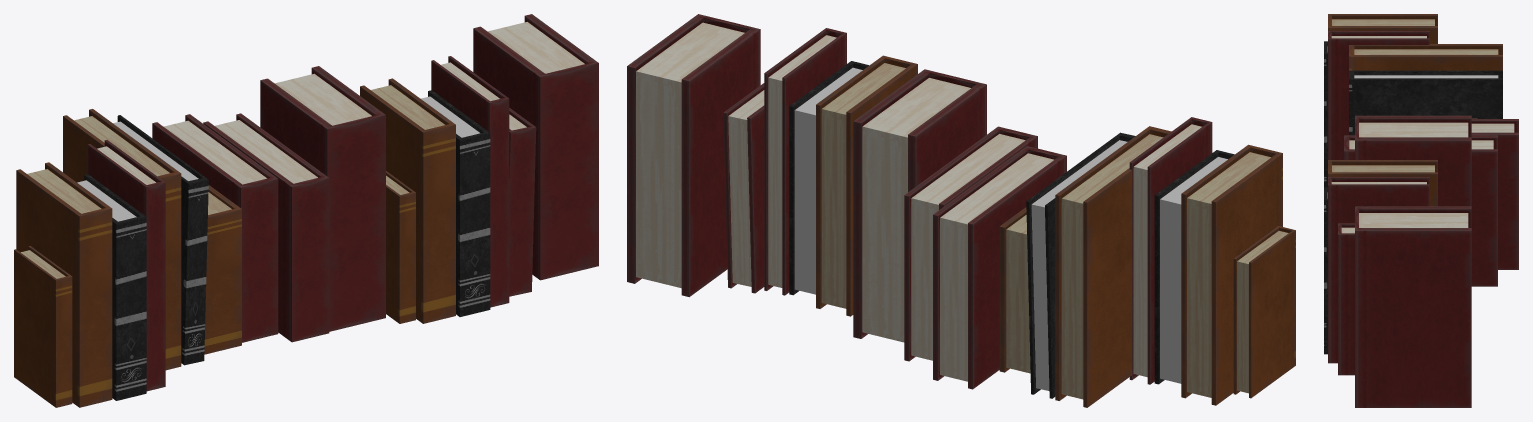
File: BookShelf_ShelfRow_02.fbx
3 renders of one model, left to right at view 1: azimuth 30°, elevation 25°; view 2: azimuth 150°, elevation 25°; view 3: azimuth 270°, elevation 25°, orthographic. The views are drawn at different scales.
Parts seen in each view (by area): view 1: polySurface196; view 2: polySurface196; view 3: polySurface196.
Part boxes in pixels (left/top/right/bottom): polySurface196: left=14, top=14, right=598, bottom=407; polySurface196: left=627, top=14, right=1295, bottom=407; polySurface196: left=1324, top=14, right=1518, bottom=407.
Bounding box in the file's own units: 3.09 × 1.09 × 1.08.
